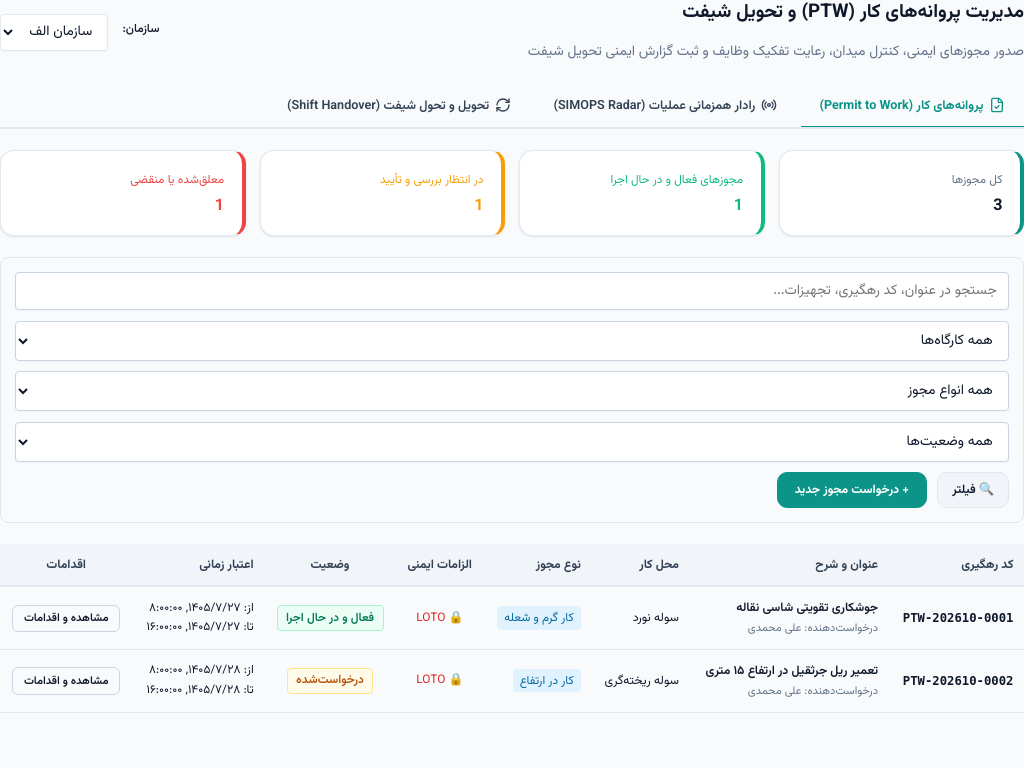
Test: PermitsPage › respects server action capabilities and exposes expired permits read-only
This screenshot has width=1024, height=768.
What coordinates should you click on to do the following:
click the button "مشاهده و اقدامات" in the row of "PTW-202610-0001"
I would click on:
 (66, 618)
Its box is [12, 605, 120, 632].
(page scrolled)
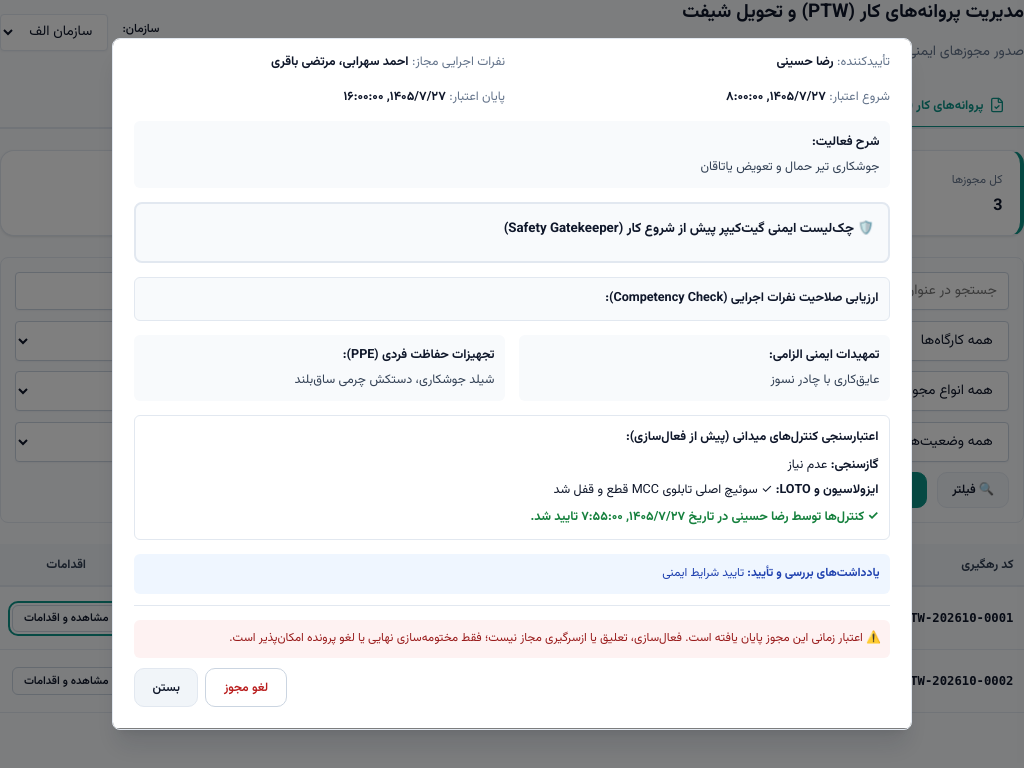
Expected: the text "اعتبار زمانی این مجوز پایان یافته است" is shown, [229, 629, 881, 647]
Expected: the button "لغو مجوز" is shown, [205, 668, 287, 707]
